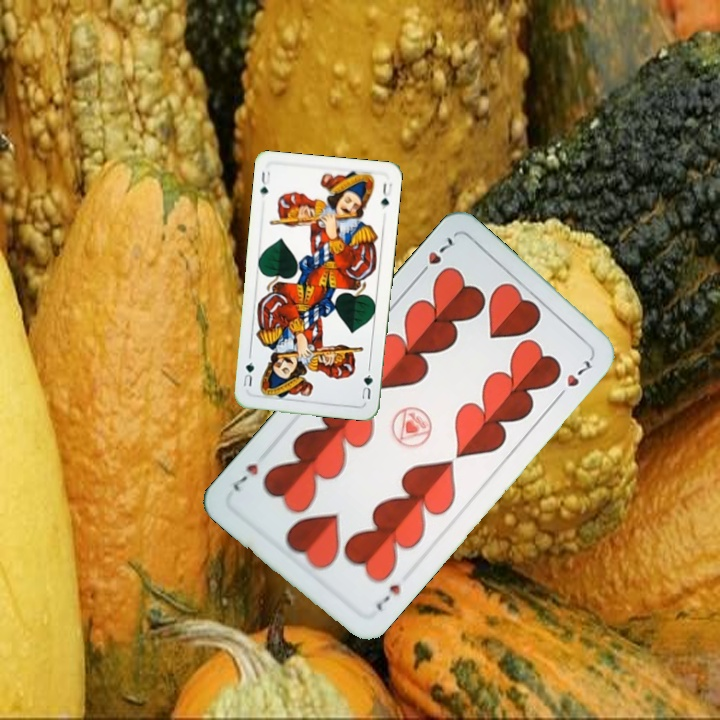GU: (358, 370, 375, 402), (256, 167, 273, 197)
H7: (413, 232, 458, 280), (372, 579, 403, 614)
